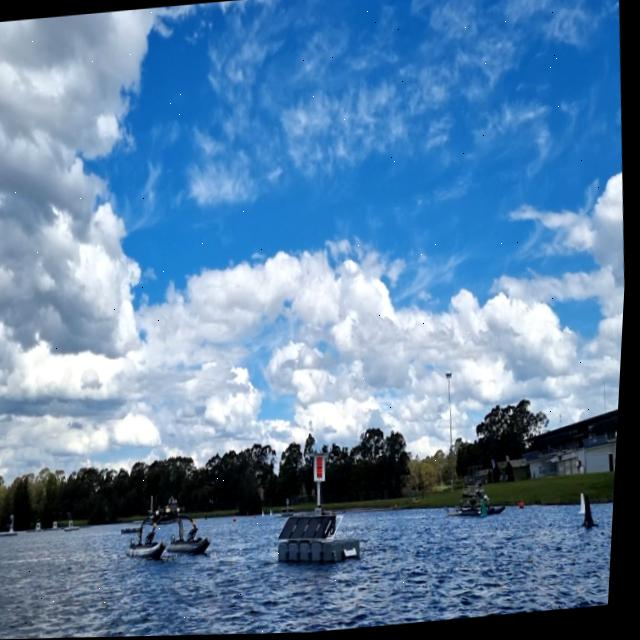led: (319, 455, 331, 482)
